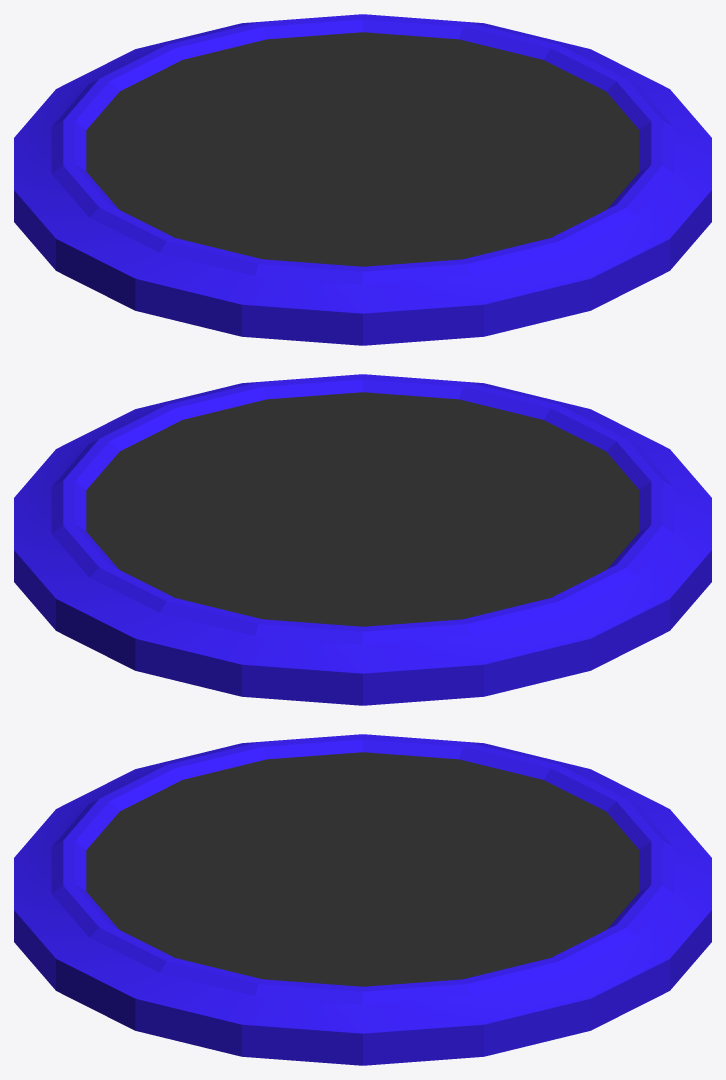
File: ShowcaseThing.FBX
The picture shows the model from 3 angles, top to bottom: view 1: azimuth 30°, elevation 25°; view 2: azimuth 150°, elevation 25°; view 3: azimuth 270°, elevation 25°; orthographic projection.
Visible parts, largest first — view 1: ShowcaseThing; view 2: ShowcaseThing; view 3: ShowcaseThing.
Boxes of the visible parts, box(x1,y1,x2,y2) form: ShowcaseThing: box(14, 14, 711, 345); ShowcaseThing: box(14, 374, 711, 705); ShowcaseThing: box(14, 734, 711, 1065).
Bounding box in the file's own units: 157 × 12.99 × 155.
